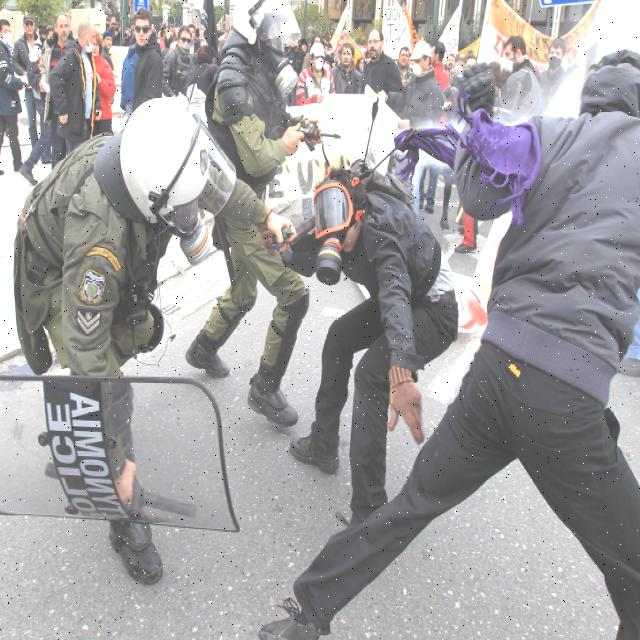police: (0, 77, 250, 640), (212, 0, 366, 433)
